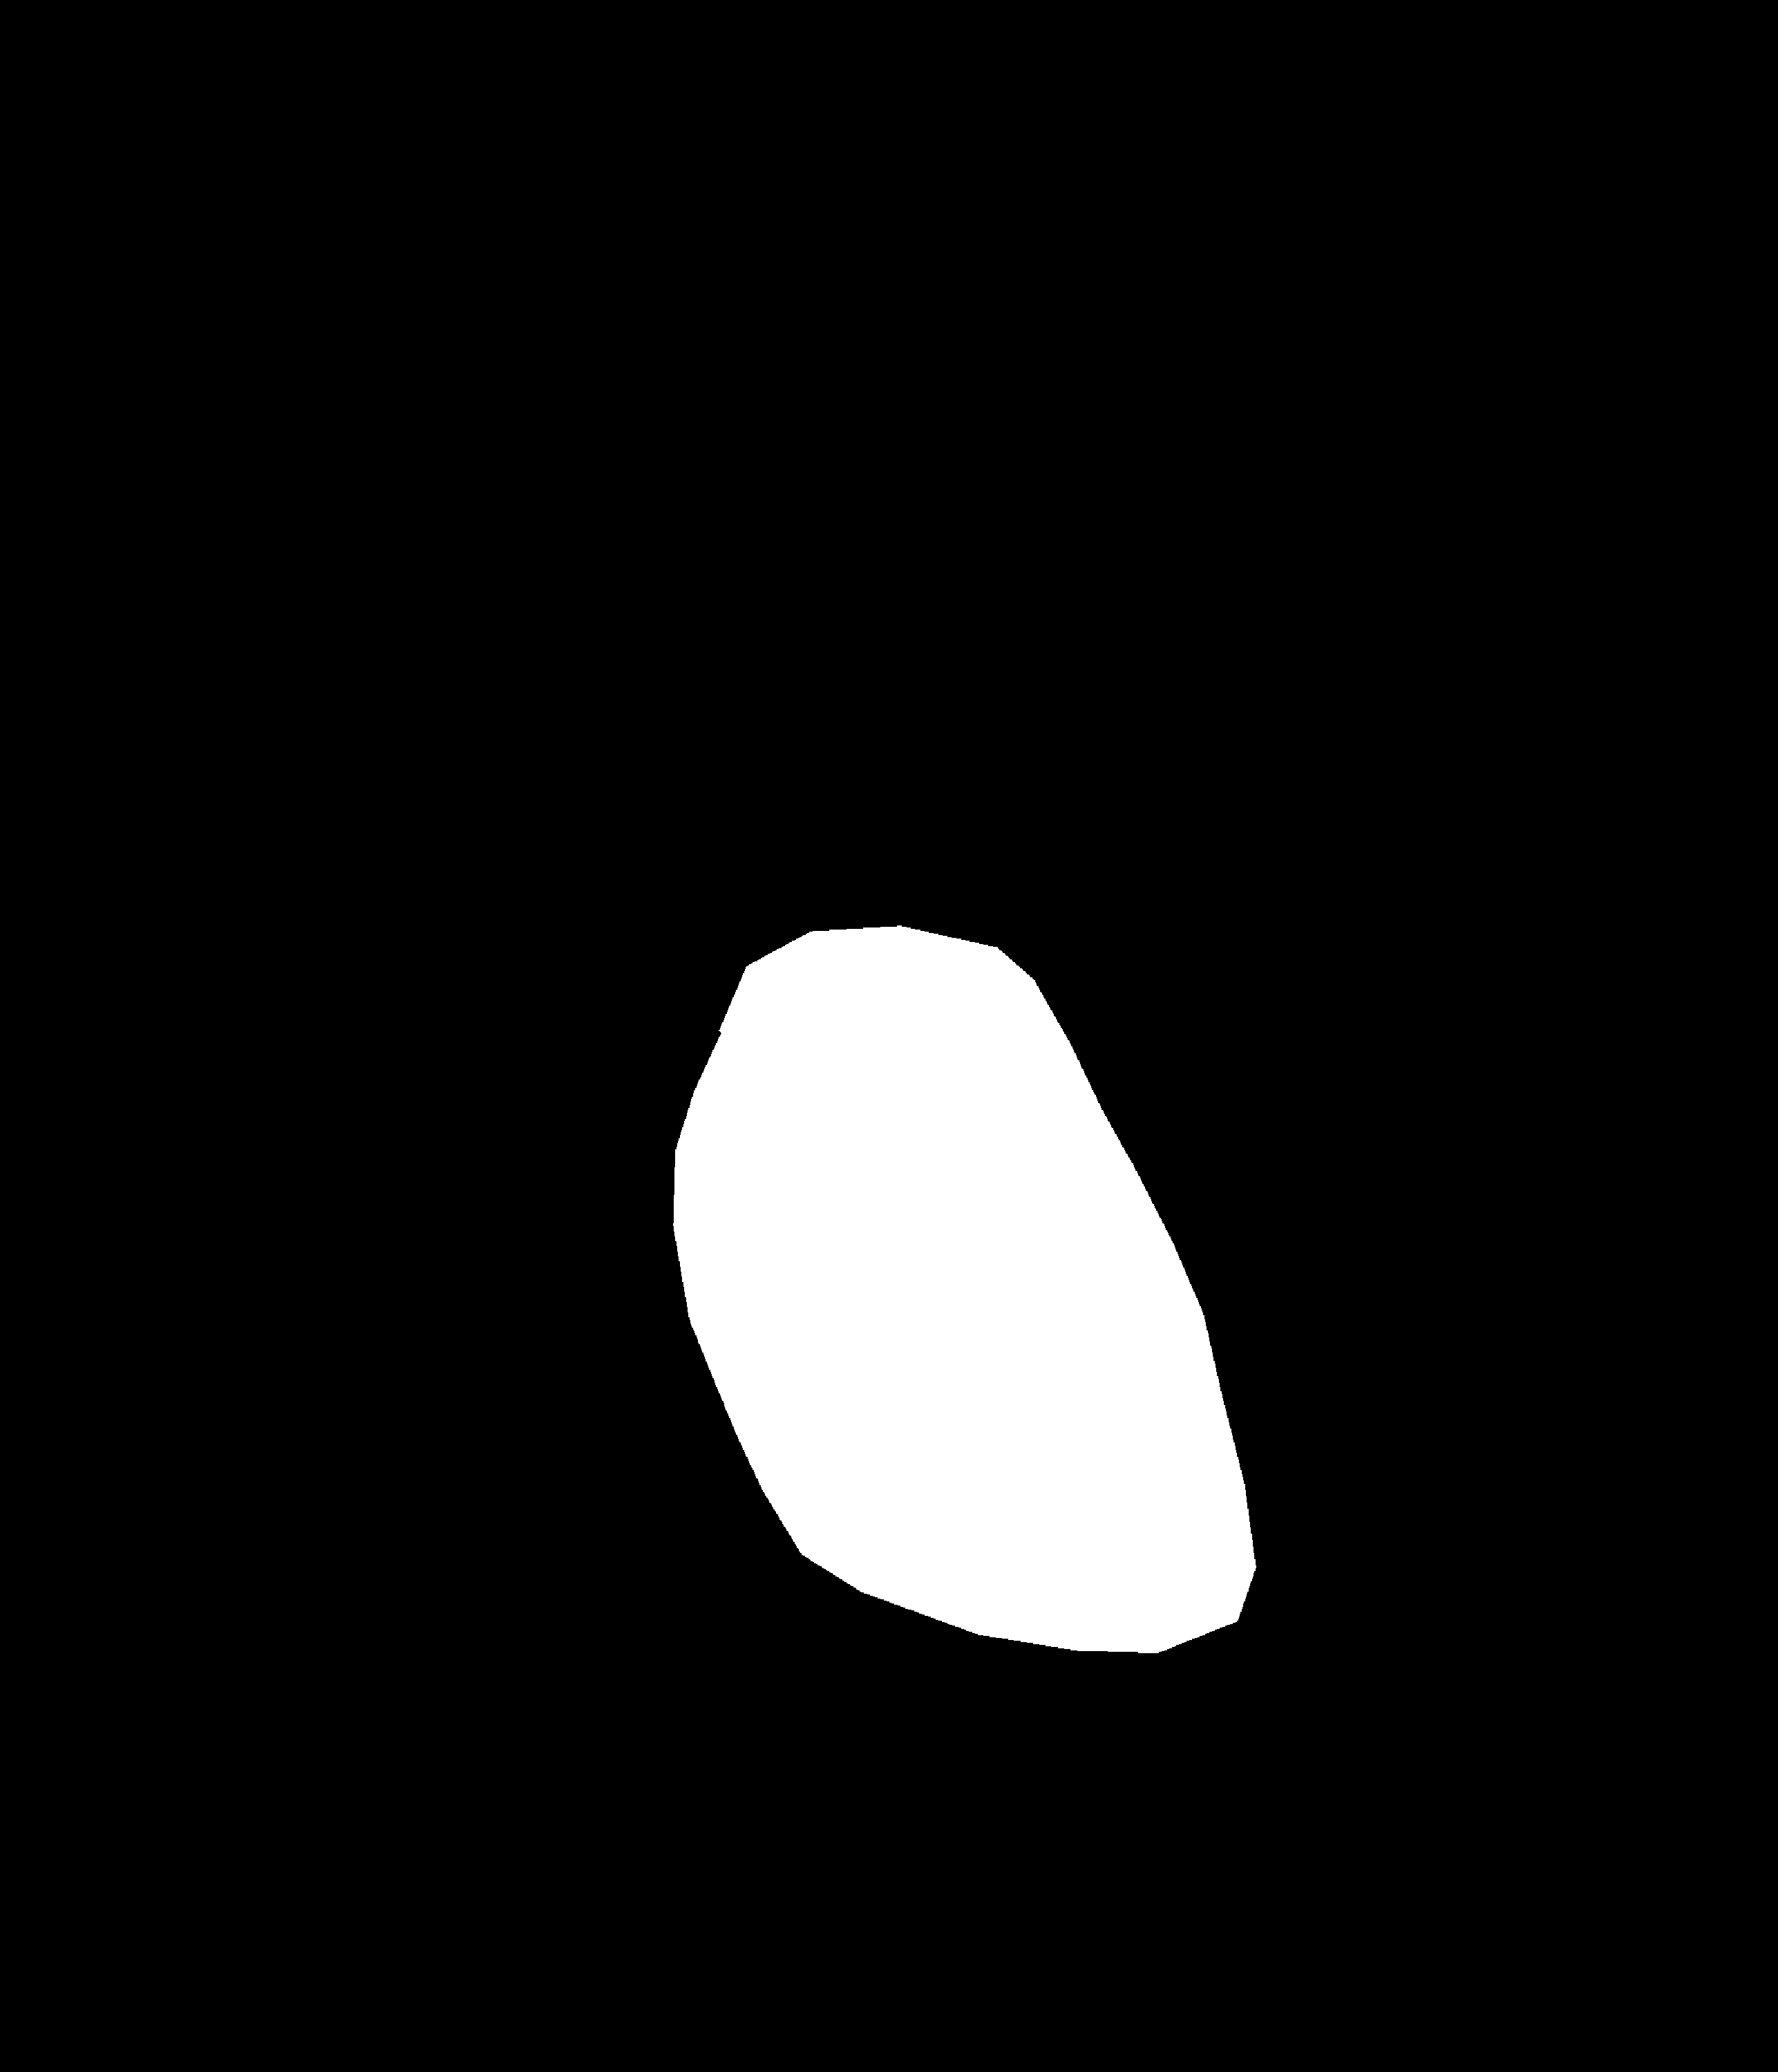heart: (673, 1004, 1242, 1602)
left_lung: (210, 335, 802, 1876)
right_lung: (929, 301, 1558, 1825)
